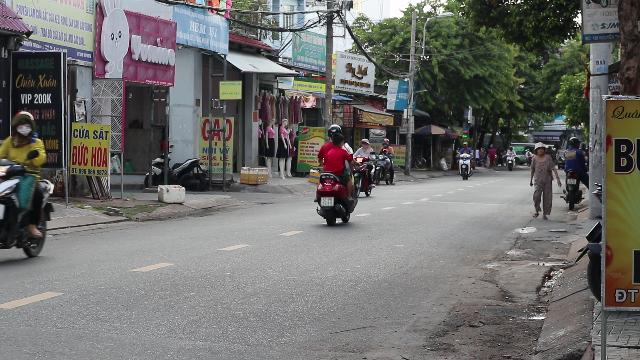helmet: (11, 110, 35, 138), (327, 123, 341, 133)
licenseplate: (321, 197, 333, 206), (0, 204, 4, 219)
motorcyclist: (0, 109, 58, 267), (313, 124, 357, 224)
nohelmet: (328, 132, 344, 148)
